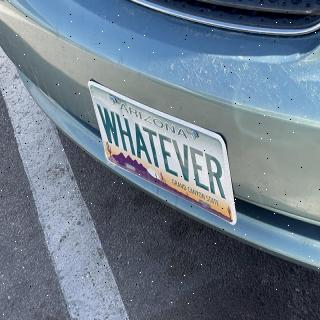license: (88, 82, 239, 228)
